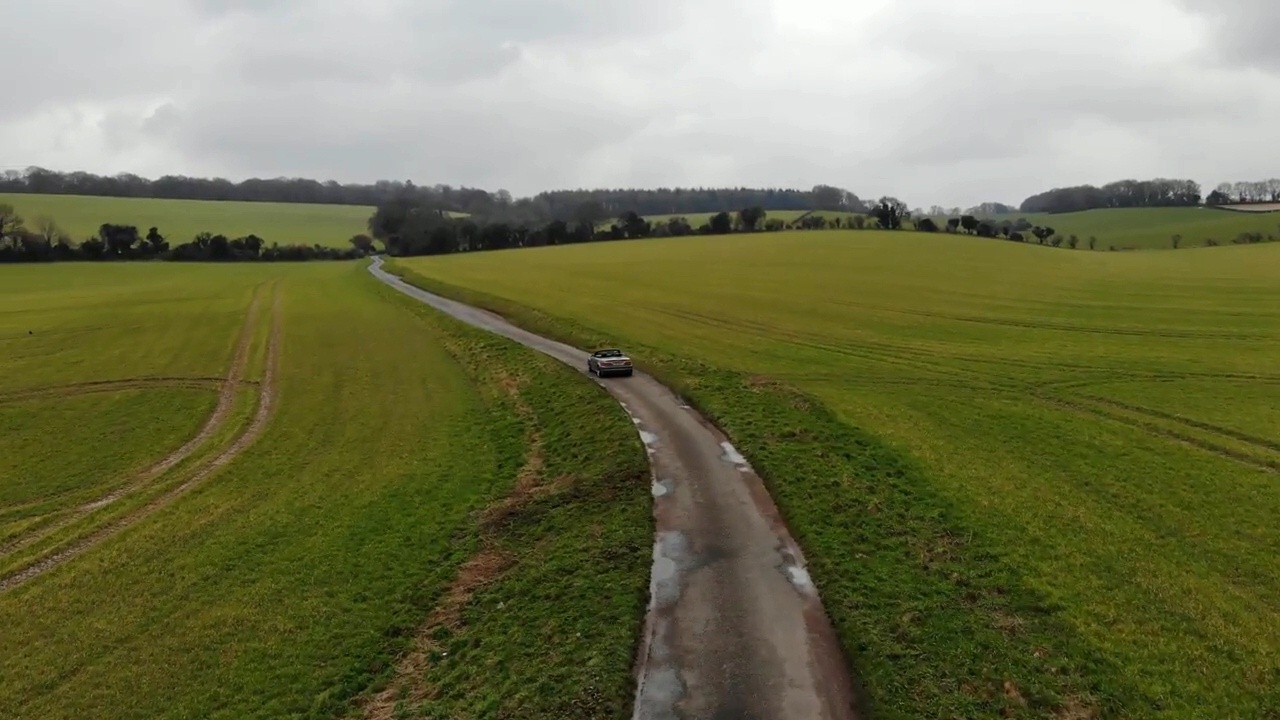araba: (587, 348, 634, 380)
